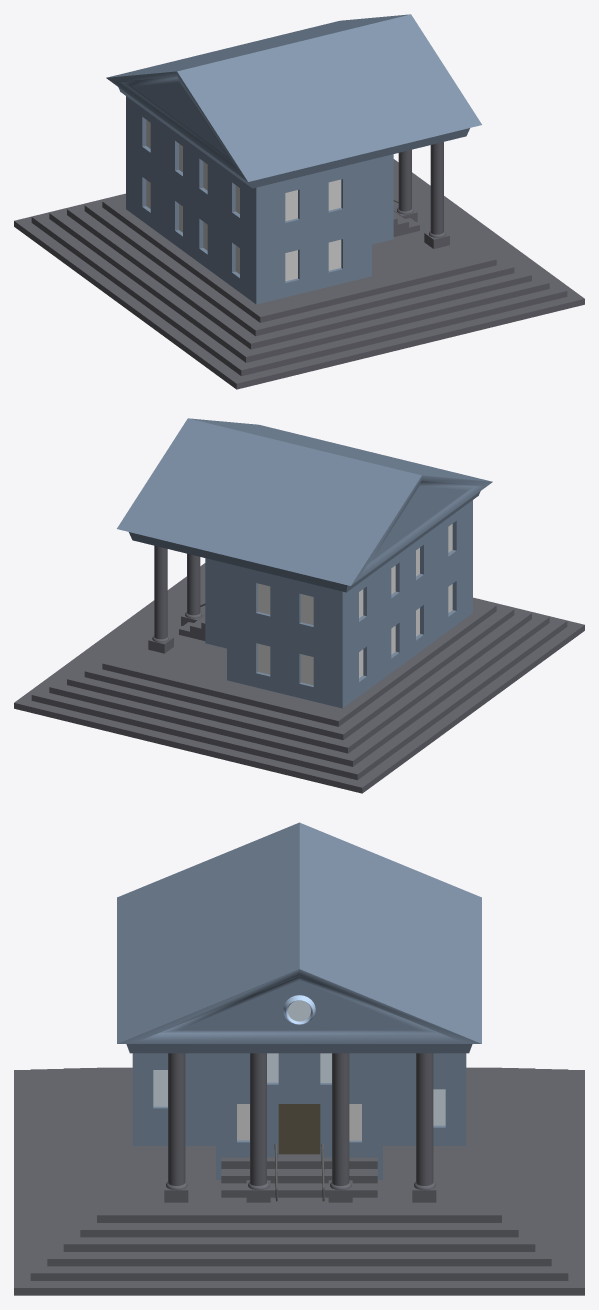
File: Town Hall FINAL export.fbx
The picture shows the model from 3 angles, top to bottom: view 1: azimuth 30°, elevation 25°; view 2: azimuth 150°, elevation 25°; view 3: azimuth 270°, elevation 25°; orthographic projection. The views are drawn at different scales.
Parts seen in each view (by area): view 1: pCube6, pPrism1, Town_hall, pCube5, pCylinder1, pCylinder3; view 2: pCube6, pPrism1, Town_hall, pCube5, pCylinder2, pCylinder4; view 3: pCube6, pPrism1, Town_hall, pCube11, pCube5, pCylinder1, pCylinder4, pCylinder2, pCylinder3, pDisc2.
Boxes of the visible parts, x1,y1,x2,y2 form: pCube6: [14, 159, 584, 389]; pPrism1: [106, 14, 481, 181]; Town_hall: [126, 96, 393, 304]; pCube5: [118, 87, 469, 188]; pCylinder1: [430, 142, 443, 234]; pCylinder3: [398, 149, 411, 211]; pCube6: [14, 563, 584, 793]; pPrism1: [117, 418, 492, 585]; Town_hall: [205, 500, 472, 708]; pCube5: [129, 491, 480, 592]; pCylinder2: [154, 545, 167, 639]; pCylinder4: [187, 553, 200, 615]; pCube6: [14, 1067, 584, 1295]; pPrism1: [117, 822, 481, 1043]; Town_hall: [132, 1053, 466, 1179]; pCube11: [221, 1154, 377, 1197]; pCube5: [126, 1044, 472, 1053]; pCylinder1: [168, 1053, 185, 1185]; pCylinder4: [332, 1053, 349, 1185]; pCylinder2: [416, 1053, 433, 1185]; pCylinder3: [250, 1053, 266, 1185]; pDisc2: [283, 995, 315, 1024].
Bounding box in the file's own units: 6.22 × 3.82 × 6.88.
